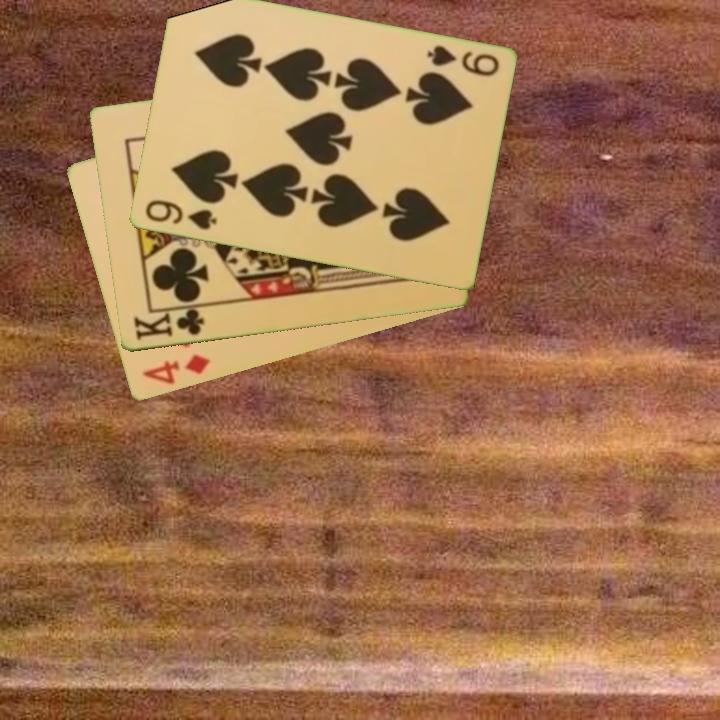4d: (138, 351, 213, 388)
9s: (423, 42, 502, 80), (141, 196, 219, 233)
Kc: (130, 303, 210, 343)
